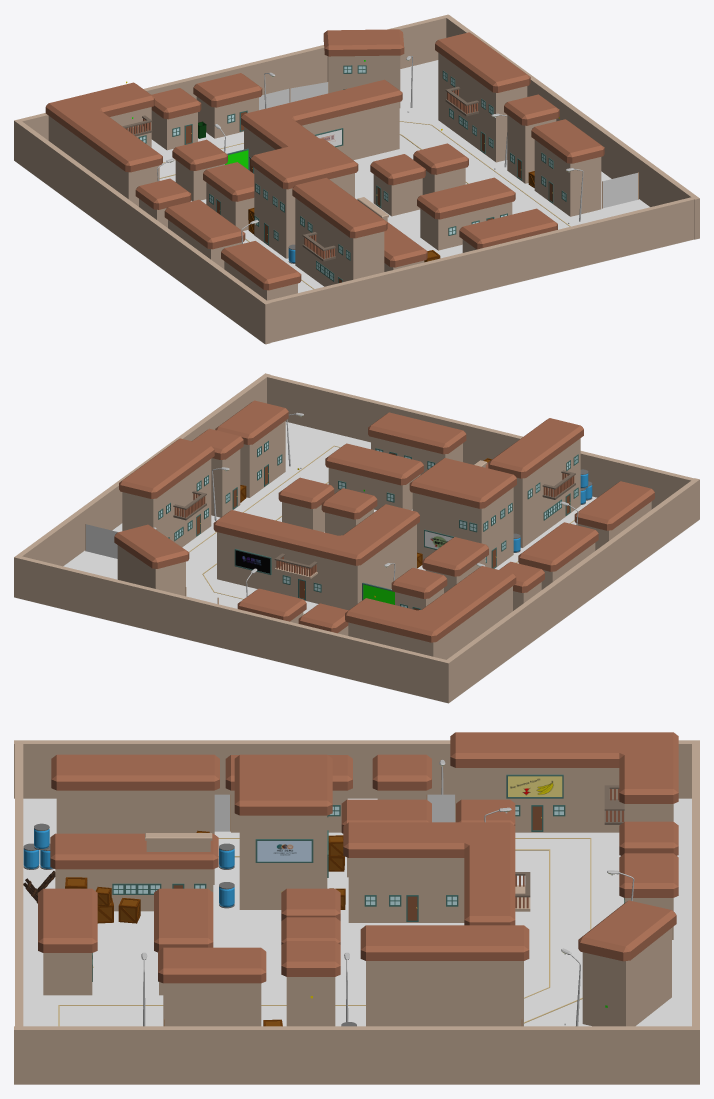
The model's file is Level_2.glb.
3 views of the same model, one above another, from view 1: azimuth 30°, elevation 25°; view 2: azimuth 150°, elevation 25°; view 3: azimuth 270°, elevation 25° (orthographic). The views are drawn at different scales.
Visible parts, largest first — view 1: Wall.001, Wall.003, Floor, Wall.002, Roof.004, Wall.004, Roof.012, Base.023, Base.016, Roof.009, Base.022, Base.014 (+34 smaller); view 2: Wall.002, Wall.003, Wall.001, Roof.012, Floor, Roof.004, Wall.004, Base.010, Base.014, Base.023, Base.016, Base.013 (+31 smaller); view 3: Wall.004, Floor, Wall.003, Base.016, Roof.004, Roof.012, Base.023, Base.013, Base.004, Base.015, Roof.005, Base.010 (+33 smaller).
Boxes of the visible parts, x1,y1,x2,y2 form: Wall.001: (262,196,699,343); Wall.003: (14,119,270,344); Floor: (15,60,693,342); Wall.002: (14,14,450,162); Roof.004: (45,82,162,172); Wall.004: (446,15,699,239); Roof.012: (241,79,402,149); Base.023: (295,198,384,286); Base.016: (438,53,527,162); Roof.009: (251,138,358,189); Base.022: (534,140,601,216); Base.014: (302,102,399,160); Wall.002: (14,555,451,703); Wall.003: (447,478,699,700); Wall.001: (262,374,699,521); Roof.012: (213,504,419,565); Floor: (14,422,698,703); Roof.004: (345,566,516,642); Wall.004: (17,373,270,566); Base.010: (412,487,513,568); Base.014: (217,532,326,604); Base.023: (513,438,580,547); Base.016: (122,459,211,547); Base.013: (326,524,416,610); Wall.004: (14,1026,698,1084); Floor: (23,798,691,1026); Wall.003: (14,740,698,798); Base.016: (366,961,523,1026); Roof.004: (450,732,678,803); Roof.012: (343,822,515,925); Base.023: (56,790,214,884); Base.013: (348,858,464,922); Base.004: (455,768,619,832); Base.015: (582,928,671,1026); Roof.005: (51,754,219,790); Base.010: (239,815,327,909).
Size of what is drawn, in the model's own units: 84 by 14.87 by 84.14.
Materials: 30 (5 with a texture image).
